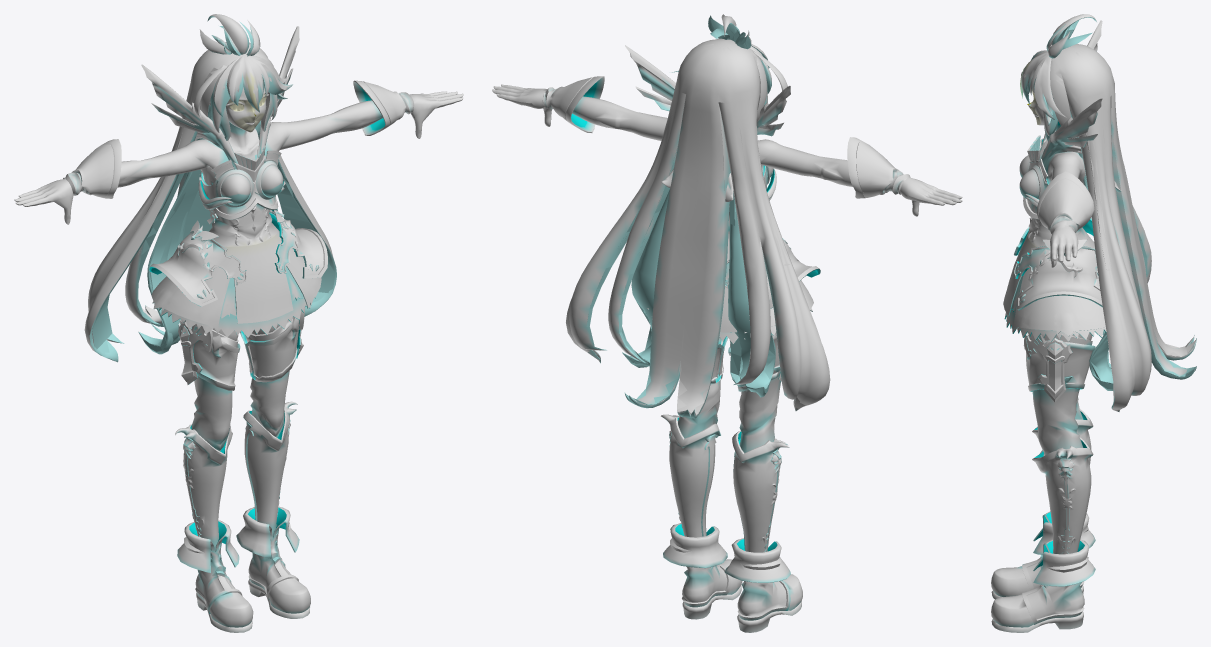
3 views of the same model, side by side, from view 1: azimuth 30°, elevation 25°; view 2: azimuth 150°, elevation 25°; view 3: azimuth 270°, elevation 25° (orthographic). The views are drawn at different scales.
Visible parts, largest first — view 1: zoo_body.mo; view 2: zoo_body.mo; view 3: zoo_body.mo.
Part boxes in pixels (<box>): zoo_body.mo: <box>14,14,463,632</box>; zoo_body.mo: <box>492,14,962,632</box>; zoo_body.mo: <box>991,14,1196,632</box>.
Bounding box in the file's own units: 121 × 150 × 47.22.
